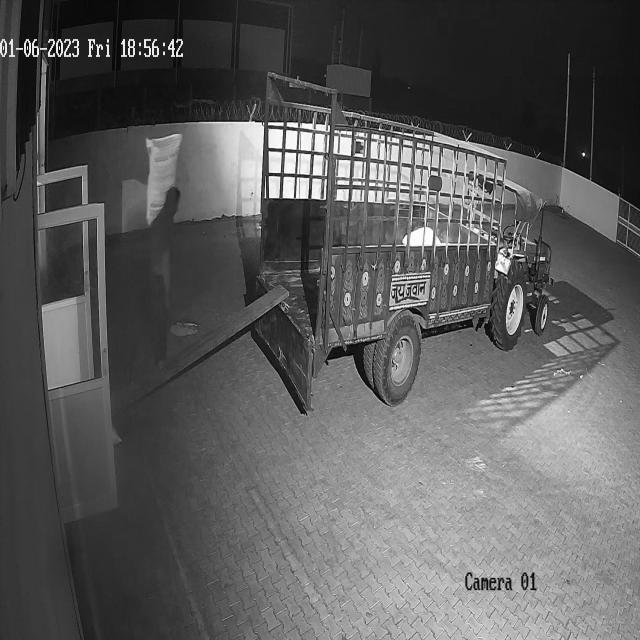sack: (146, 132, 182, 228)
